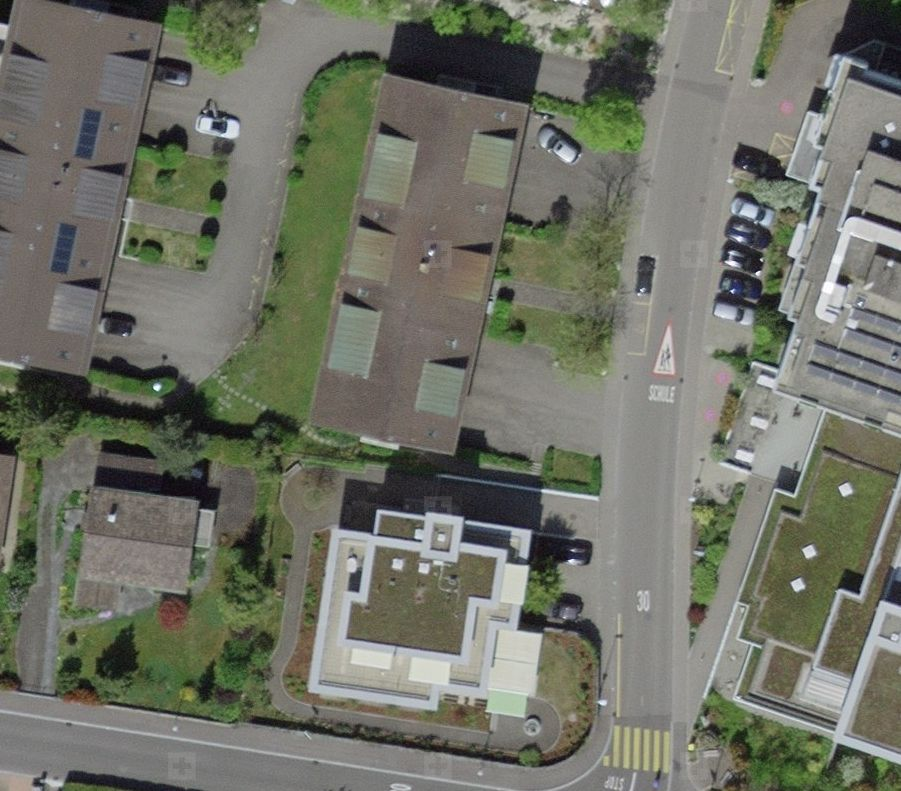solar: (801, 302, 901, 408), (68, 103, 105, 168), (43, 217, 81, 280)
